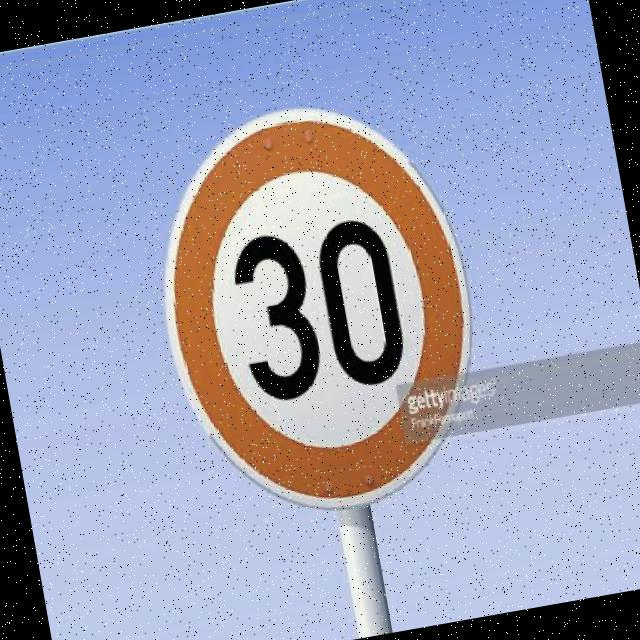Ograniczenie predkosci do 30: (136, 81, 501, 534)
